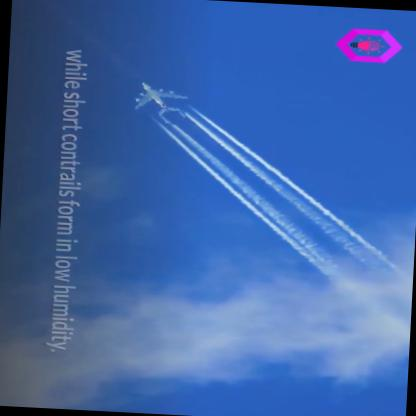plane: (126, 79, 188, 124)
